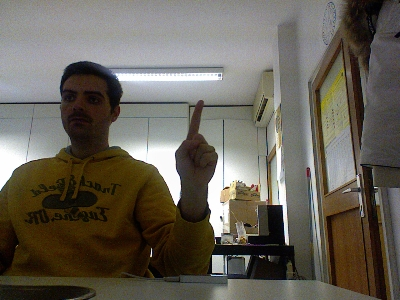食指: (174, 99, 218, 188)
